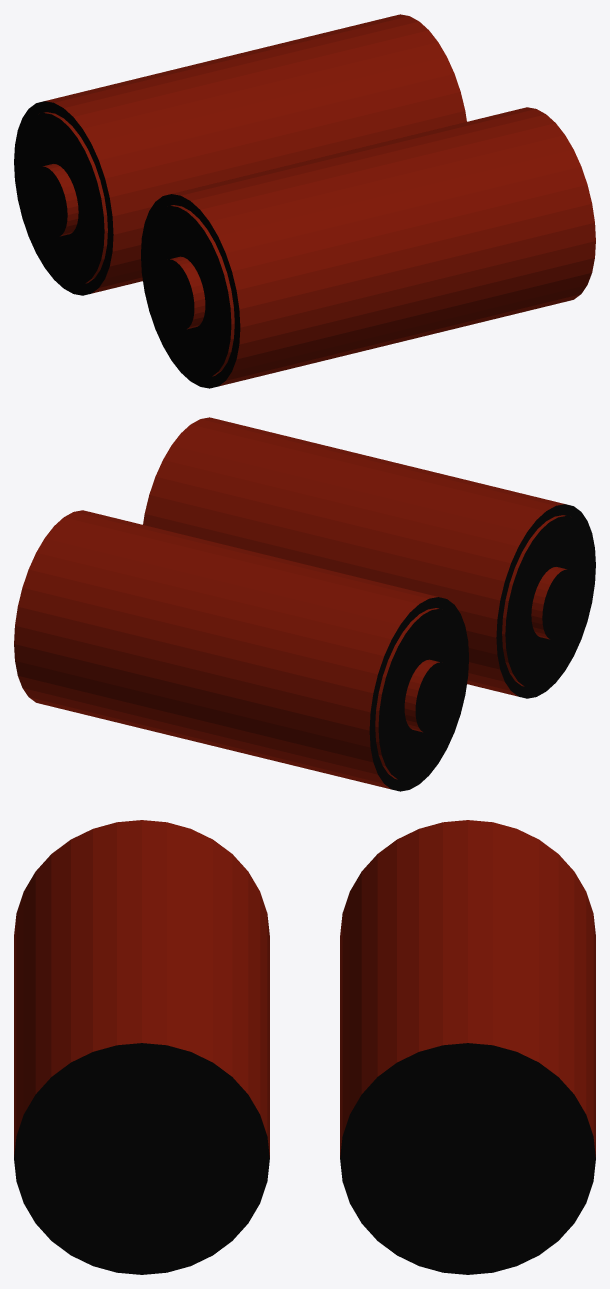
The model's file is Batteries.fbx.
3 views of the same model, one above another, from view 1: azimuth 30°, elevation 25°; view 2: azimuth 150°, elevation 25°; view 3: azimuth 270°, elevation 25° (orthographic). The views are drawn at different scales.
Parts seen in each view (by area): view 1: Batt1, Batt1.001; view 2: Batt1.001, Batt1; view 3: Batt1, Batt1.001.
Part boxes in pixels (bbox=[...]): Batt1: bbox=[141, 107, 595, 388]; Batt1.001: bbox=[14, 14, 466, 295]; Batt1.001: bbox=[14, 510, 468, 791]; Batt1: bbox=[143, 417, 595, 698]; Batt1: bbox=[14, 820, 269, 1274]; Batt1.001: bbox=[340, 820, 595, 1274].
Size of the model in its own units: 194 by 90.49 by 206.
